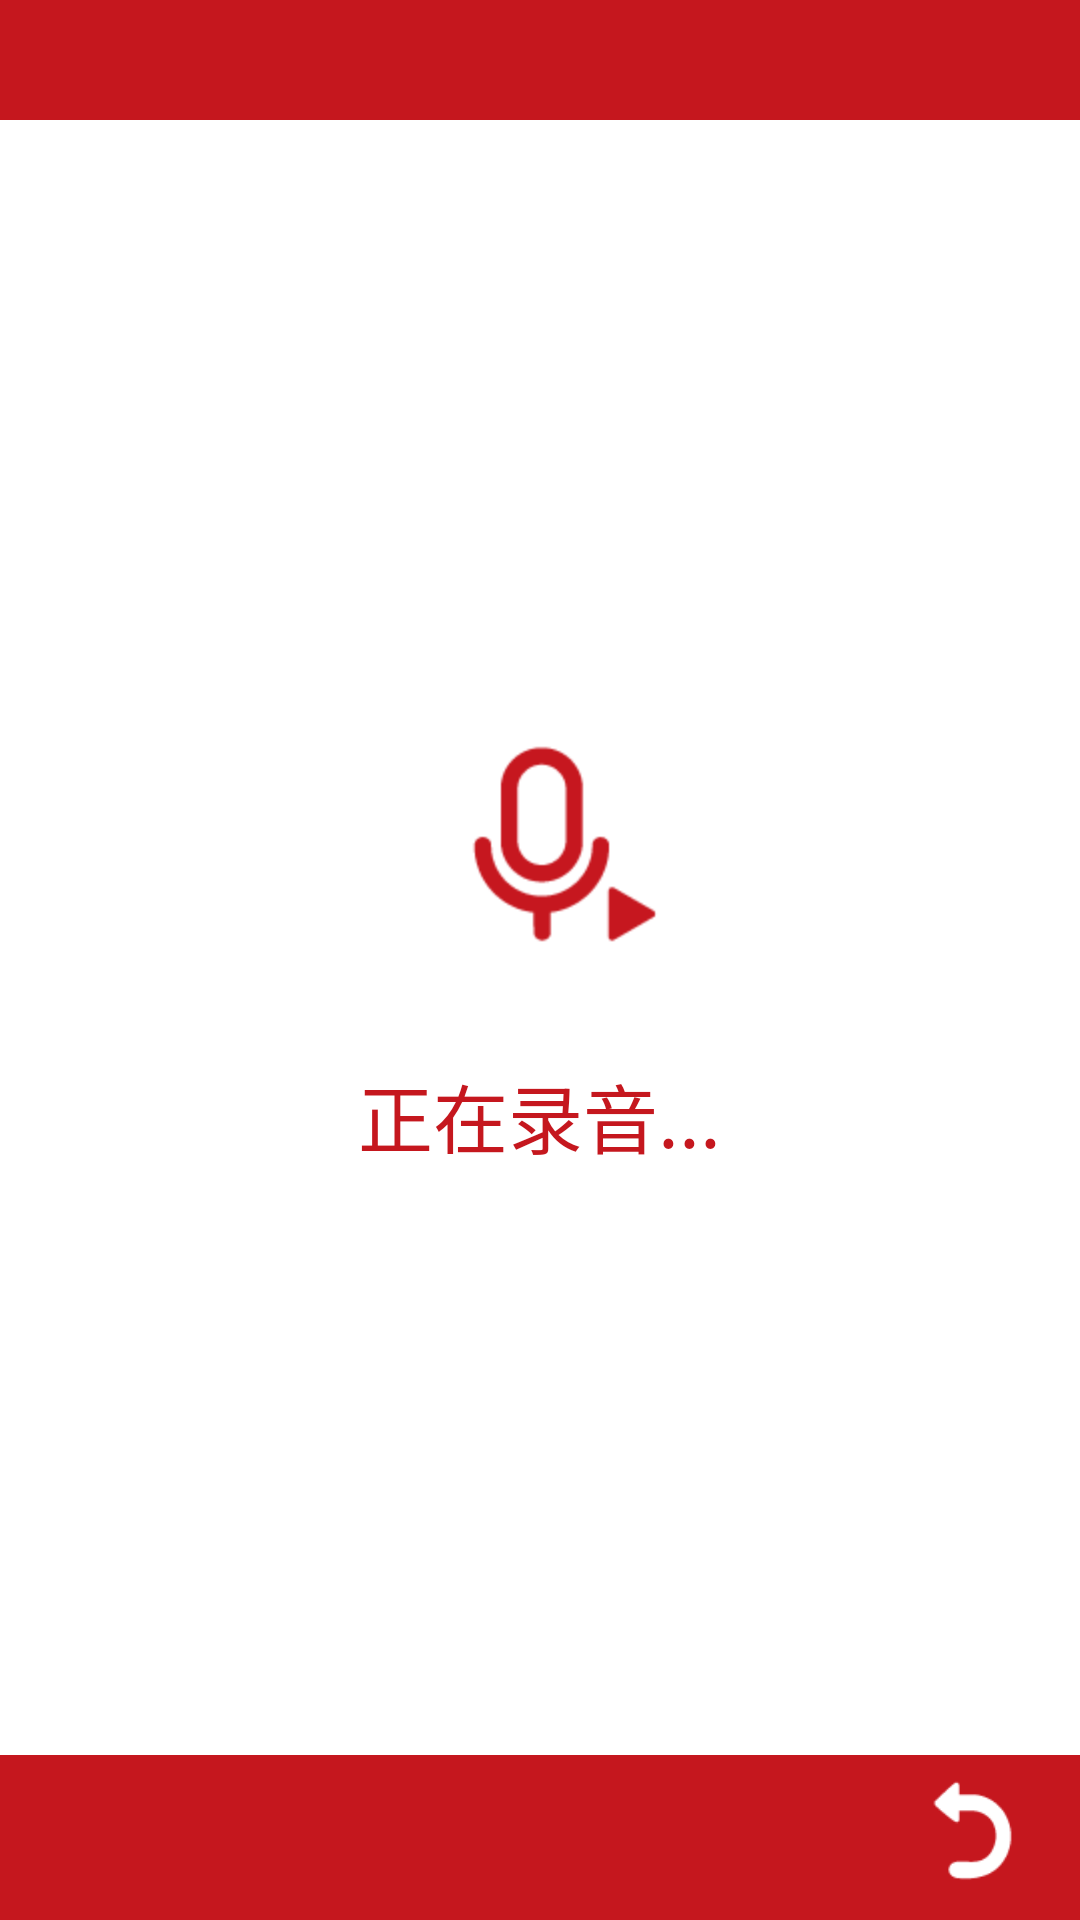

Screen size 1080w x 1920h. Icon name, then its center in pixels as point (x, y):
luyin start: point (564, 844)
